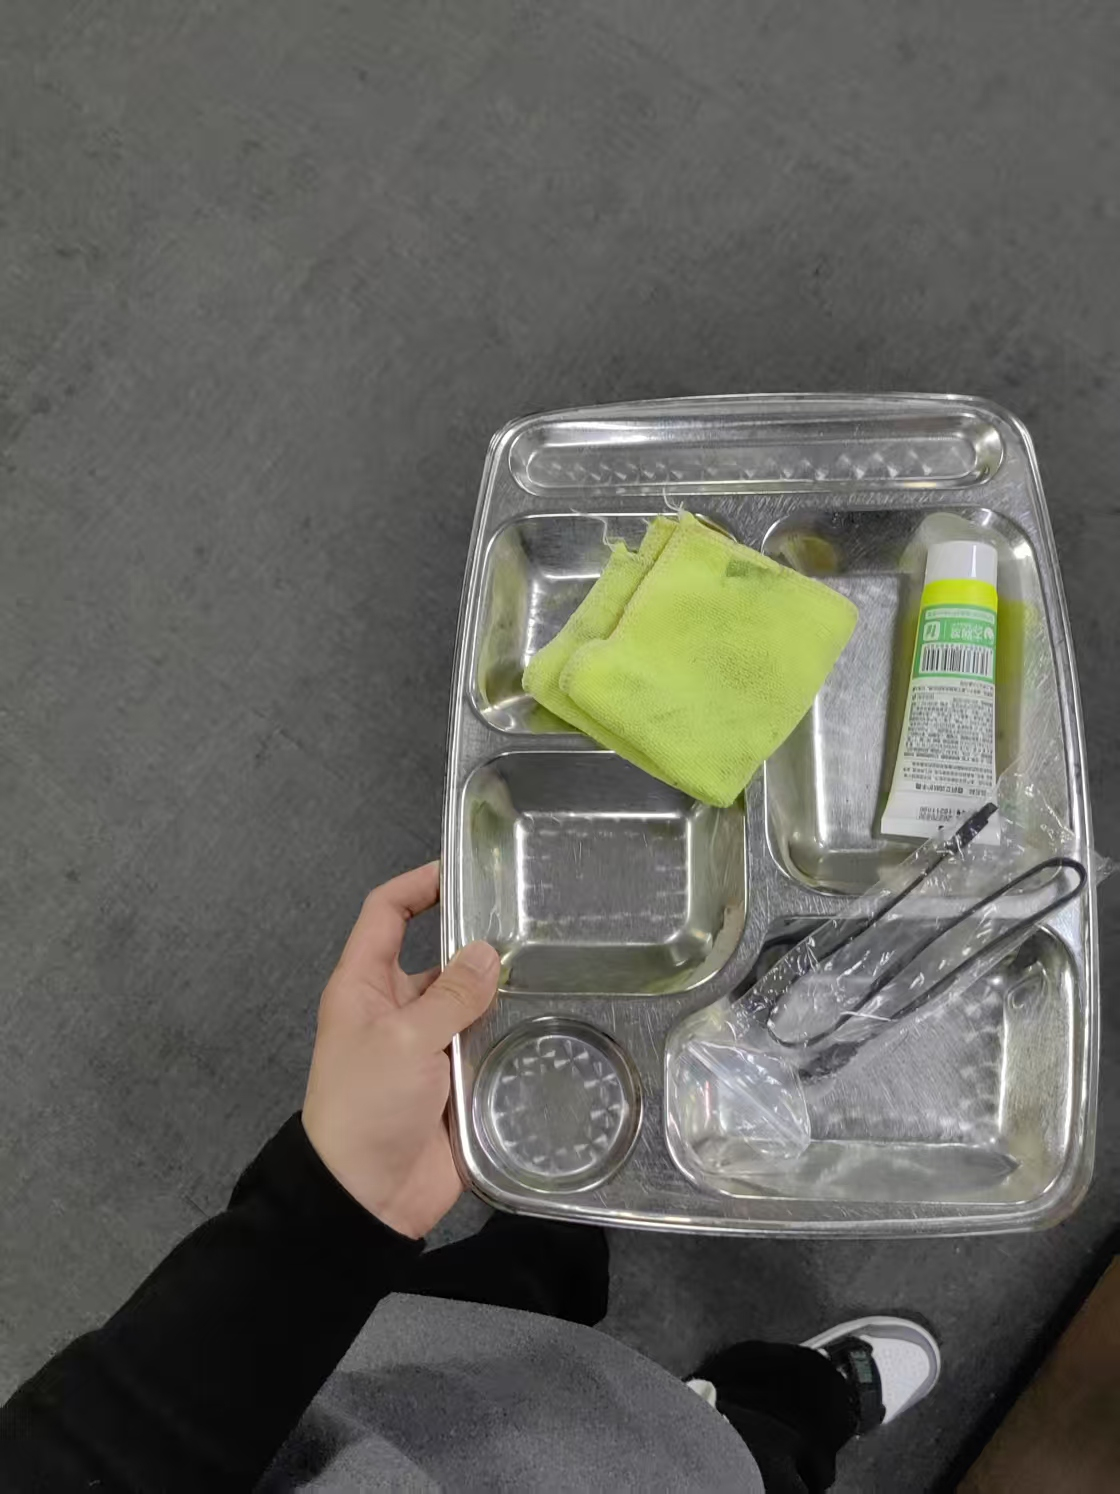moderate: (517, 507, 1097, 1147)
plate: (437, 390, 1102, 1241)
